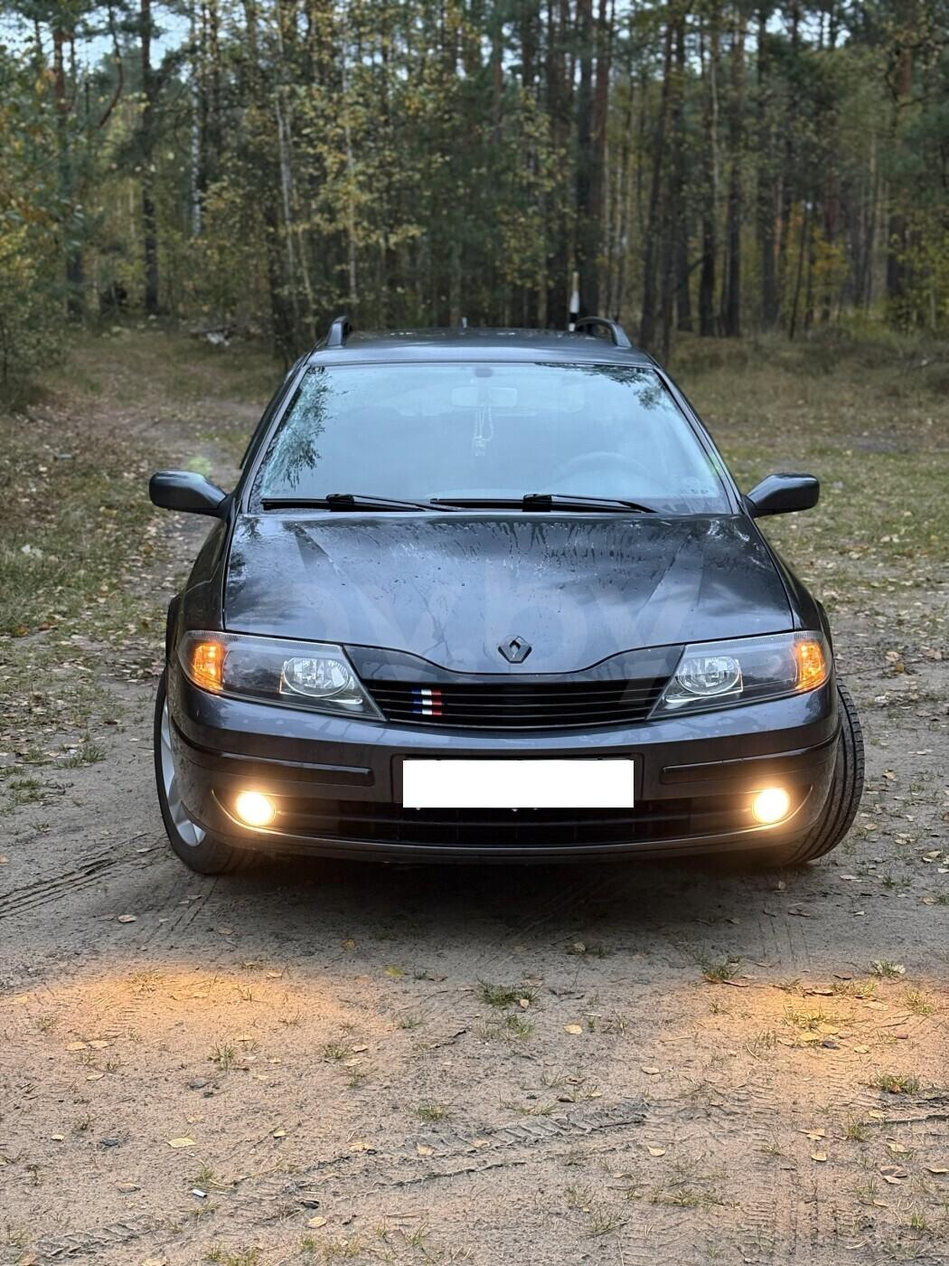Laguna_2001-2005: (149, 317, 862, 874)
